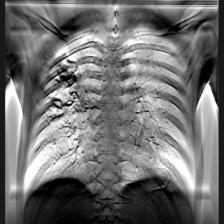tuberculosis: (22, 15, 198, 213)
